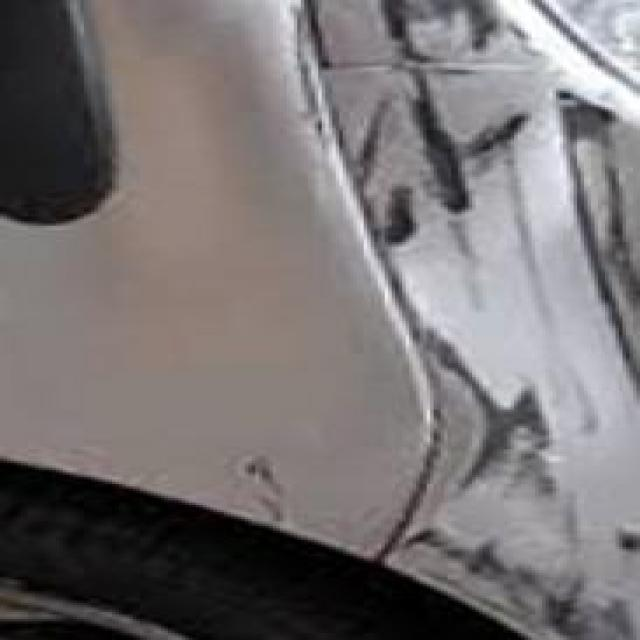scratch: (270, 6, 640, 632)
